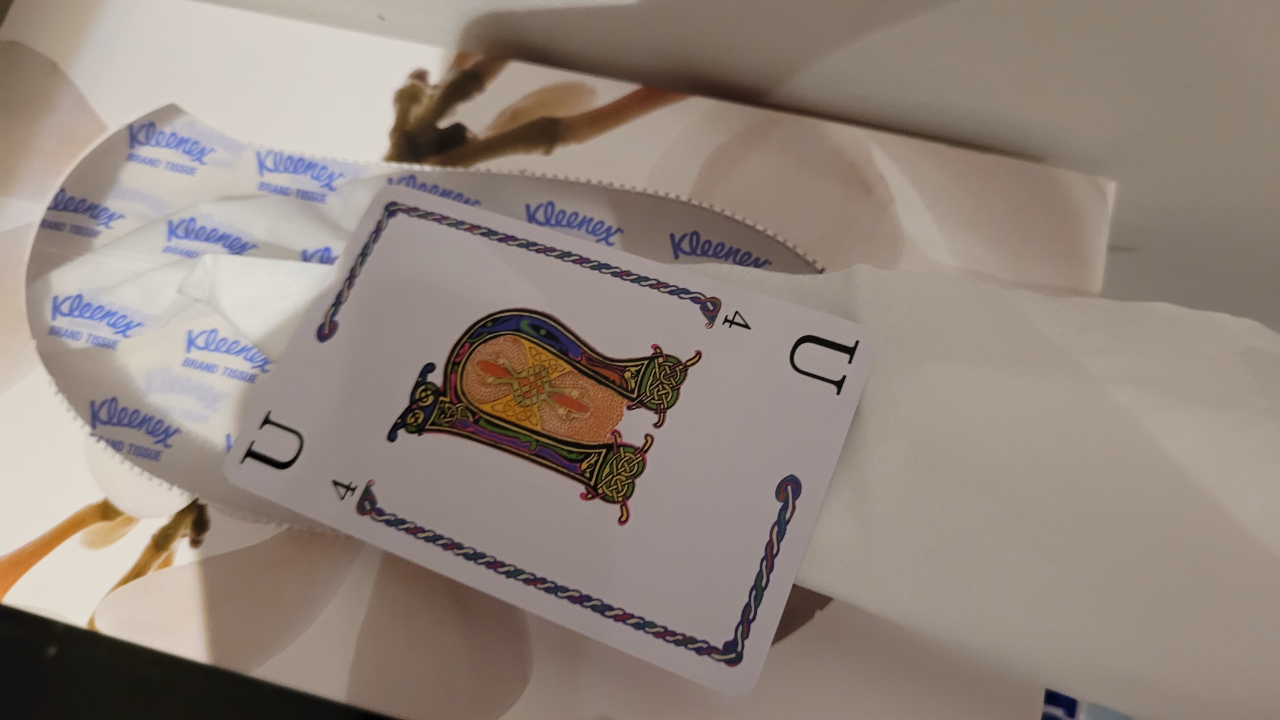quiddler_card: (206, 177, 895, 704)
